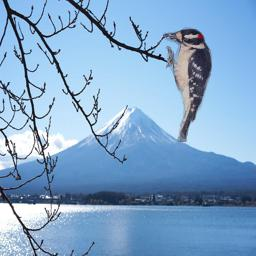Woodpecker: (163, 26, 214, 142)
